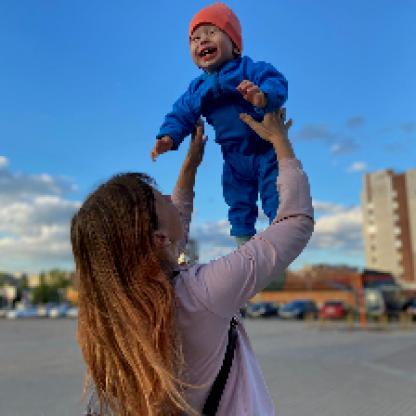child: (150, 3, 290, 252)
